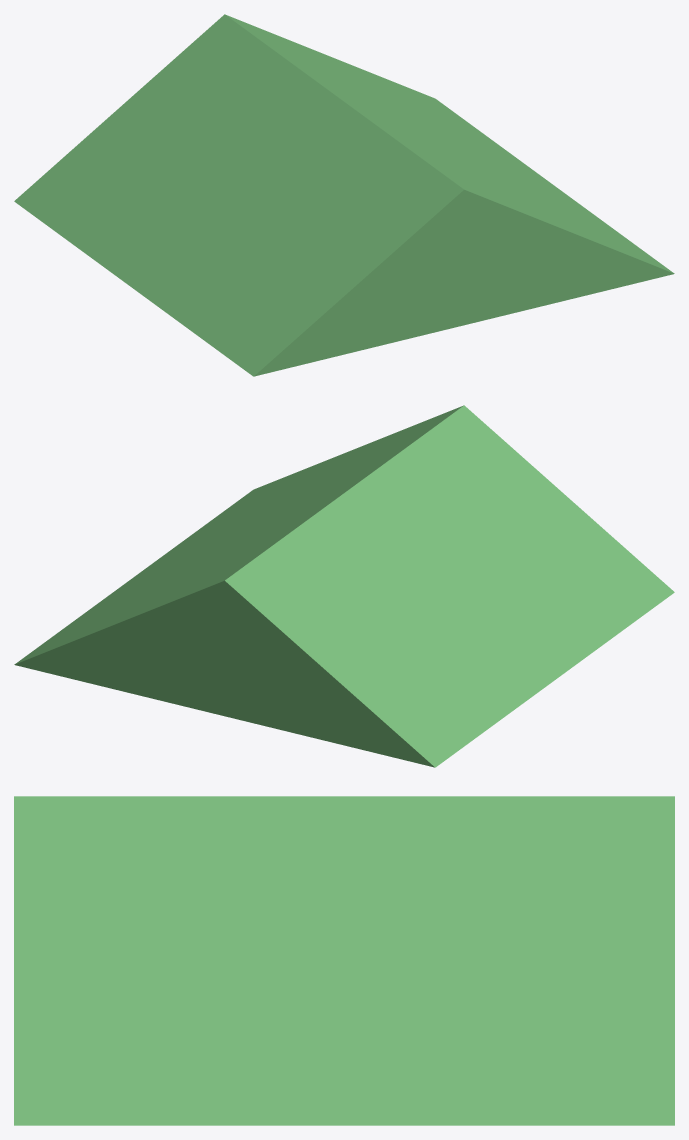
Rendered from Die on the Workplane.glb.
3 renders of one model, top to bottom at view 1: azimuth 30°, elevation 25°; view 2: azimuth 150°, elevation 25°; view 3: azimuth 270°, elevation 25°, orthographic. The views are drawn at different scales.
Parts seen in each view (by area): view 1: Mesh_Mesh_head_geo.001_lambert2SG.001; view 2: Mesh_Mesh_head_geo.001_lambert2SG.001; view 3: Mesh_Mesh_head_geo.001_lambert2SG.001.
Part boxes in pixels (<box>): Mesh_Mesh_head_geo.001_lambert2SG.001: <box>14,14,674,376</box>; Mesh_Mesh_head_geo.001_lambert2SG.001: <box>14,405,674,767</box>; Mesh_Mesh_head_geo.001_lambert2SG.001: <box>14,796,674,1125</box>.
Bounding box in the file's own units: 32.5 × 10 × 32.
